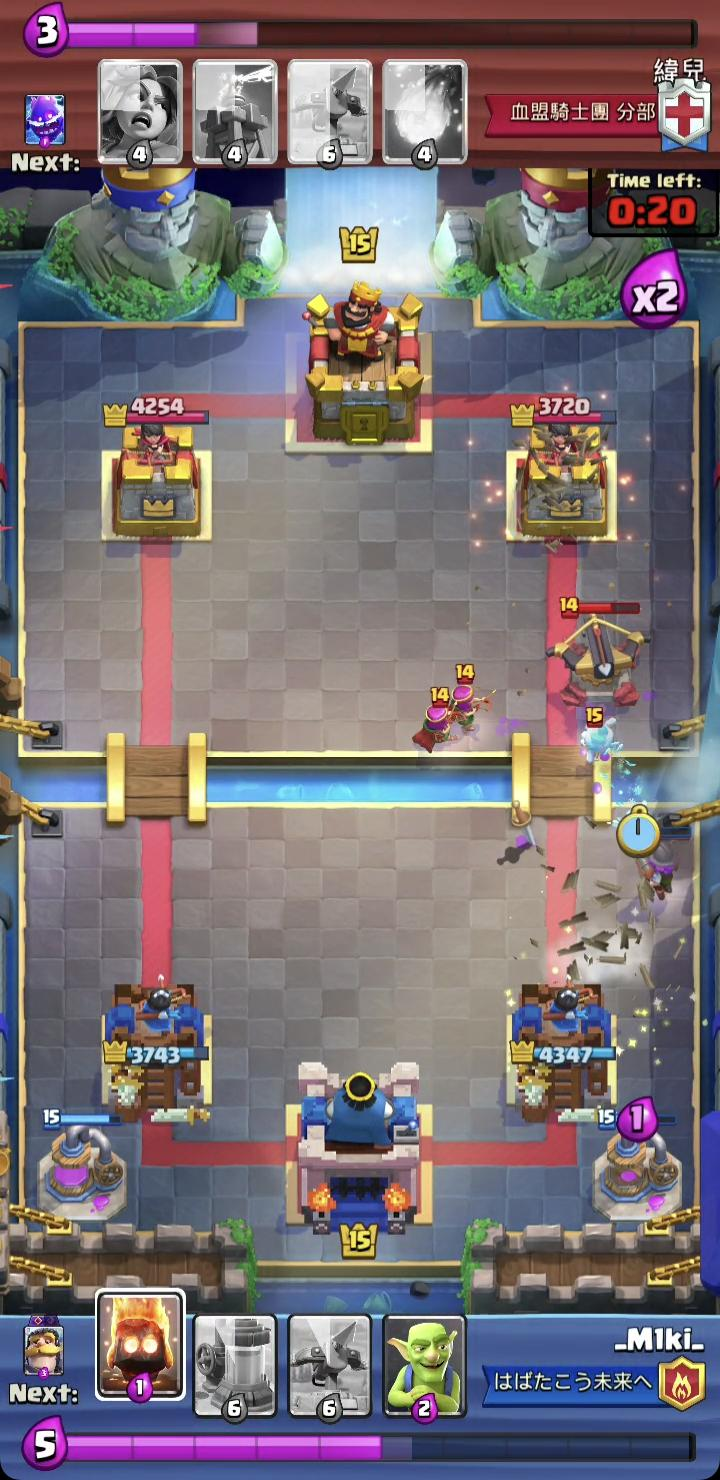ally_elixirpump: (591, 1106, 686, 1225), (35, 1108, 129, 1226)
ally_musketeer: (631, 816, 693, 902)
enemy_archer: (414, 684, 463, 757), (449, 665, 493, 744)
enemy_xbow: (543, 596, 654, 709)
